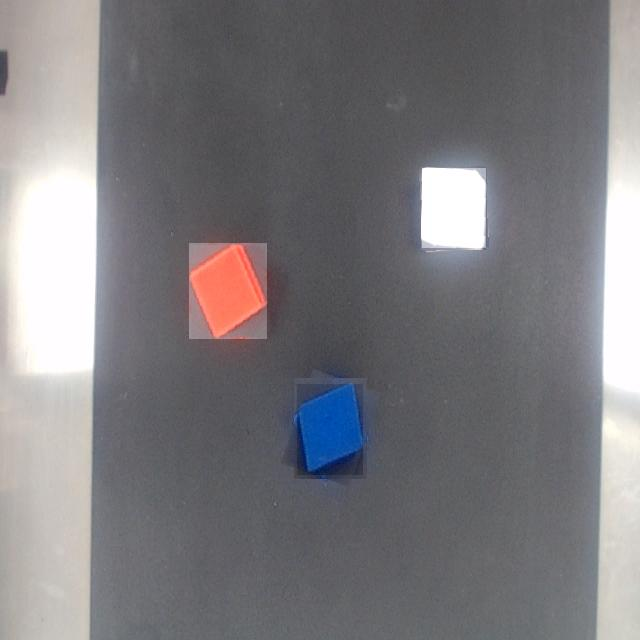Azul: (298, 384, 363, 475)
Blanco: (422, 169, 486, 248)
Rojo: (190, 244, 267, 339)
